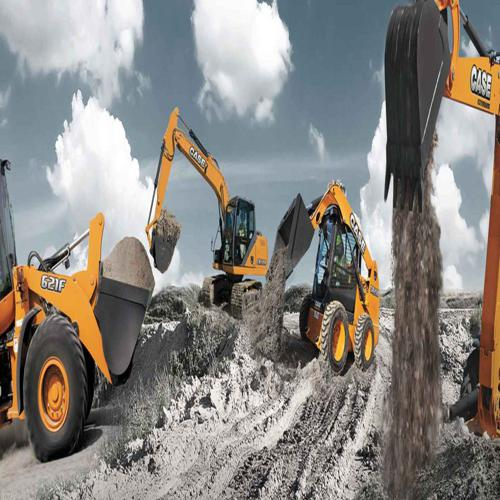con_eq: (382, 2, 500, 442), (1, 206, 153, 472), (144, 102, 271, 317), (264, 178, 380, 370)
